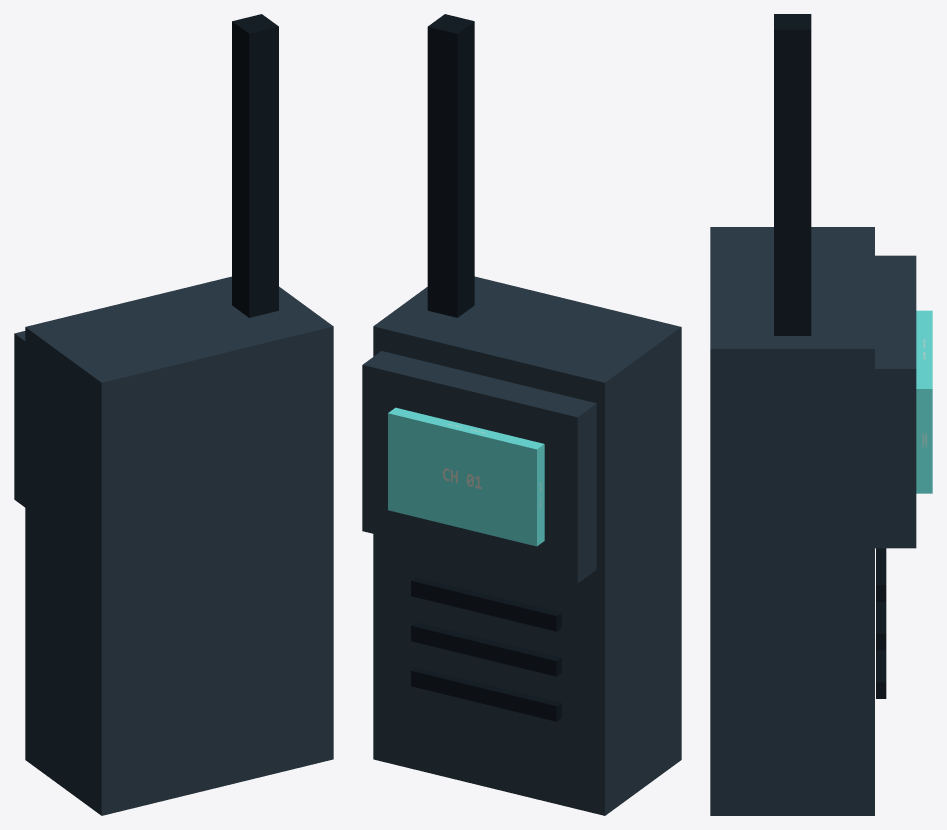
Rendered from horror_radio.obj.
The picture shows the model from 3 angles, left to right: view 1: azimuth 30°, elevation 25°; view 2: azimuth 150°, elevation 25°; view 3: azimuth 270°, elevation 25°; orthographic projection. The views are drawn at different scales.
Visible parts, largest first — view 1: Body, Antenna, DisplayFrame; view 2: Body, DisplayFrame, DisplayFace, Antenna, Speaker0.03, Speaker0.16, Speaker-0.1; view 3: Body, DisplayFrame, Antenna, DisplayFace, Speaker0.16, Speaker-0.1, Speaker0.03.
Part boxes in pixels (x1=…): Body: x1=25, y1=276, x2=333, y2=815; Antenna: x1=232, y1=14, x2=278, y2=317; DisplayFrame: x1=14, y1=331, x2=25, y2=507; Body: x1=373, y1=276, x2=681, y2=815; DisplayFrame: x1=362, y1=351, x2=596, y2=583; DisplayFace: x1=388, y1=407, x2=544, y2=546; Antenna: x1=427, y1=14, x2=474, y2=317; Speaker0.03: x1=411, y1=622, x2=561, y2=676; Speaker0.16: x1=411, y1=577, x2=561, y2=631; Speaker-0.1: x1=411, y1=667, x2=561, y2=721; Body: x1=710, y1=227, x2=874, y2=815; DisplayFrame: x1=875, y1=255, x2=916, y2=548; Antenna: x1=774, y1=14, x2=811, y2=335; DisplayFace: x1=916, y1=310, x2=932, y2=493; Speaker0.16: x1=876, y1=548, x2=886, y2=601; Speaker-0.1: x1=876, y1=650, x2=886, y2=698; Speaker0.03: x1=876, y1=602, x2=886, y2=650.
Bounding box in the file's own units: 0.7 × 2.07 × 0.54.
7 materials, 1 textured.
